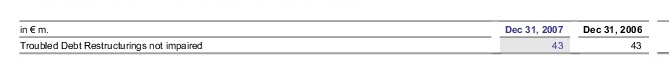table: (0, 0, 669, 77)
